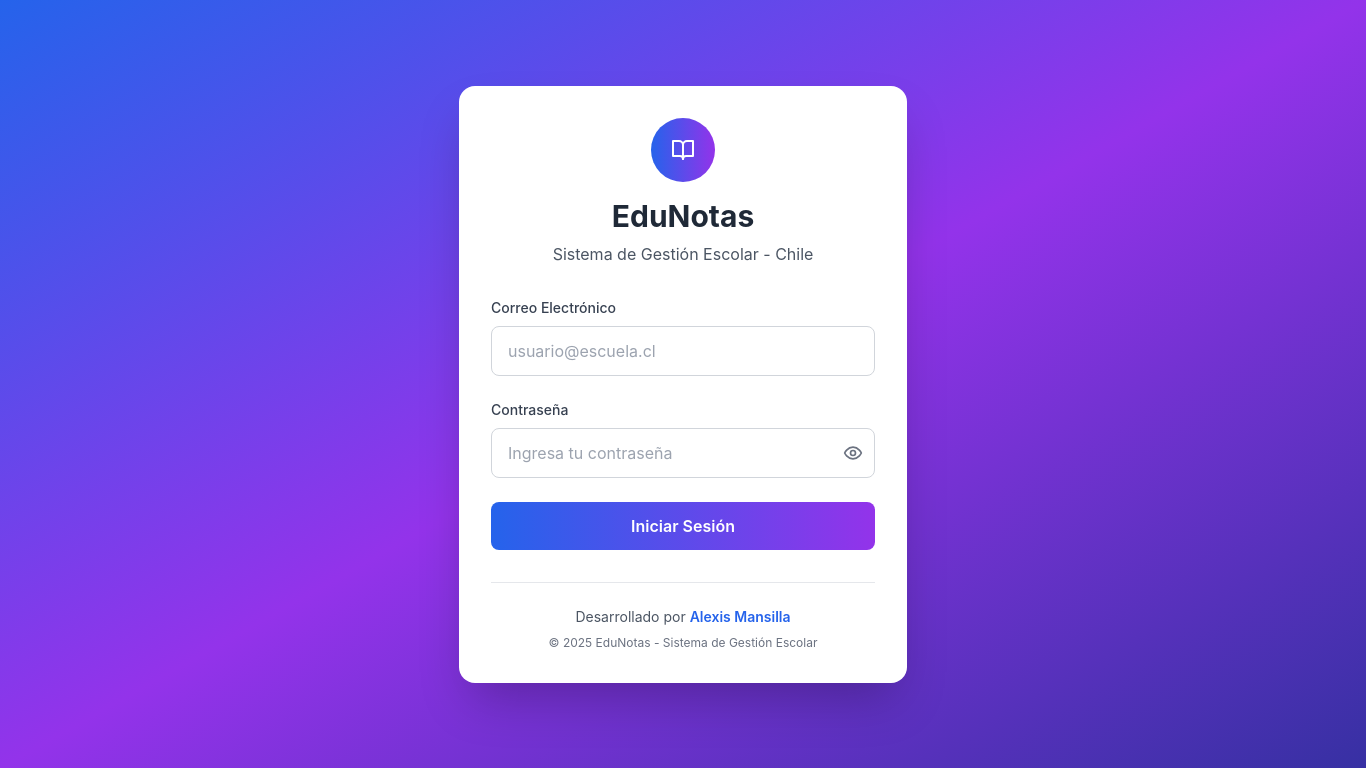
Test case: SistemaNotasEscolar › when logged in as a professor › should allow the professor to log out
In the field with placeholder "usuario@escuela.cl": x=683, y=350 [491,326,875,376], type "profesor1@escuela.cl"
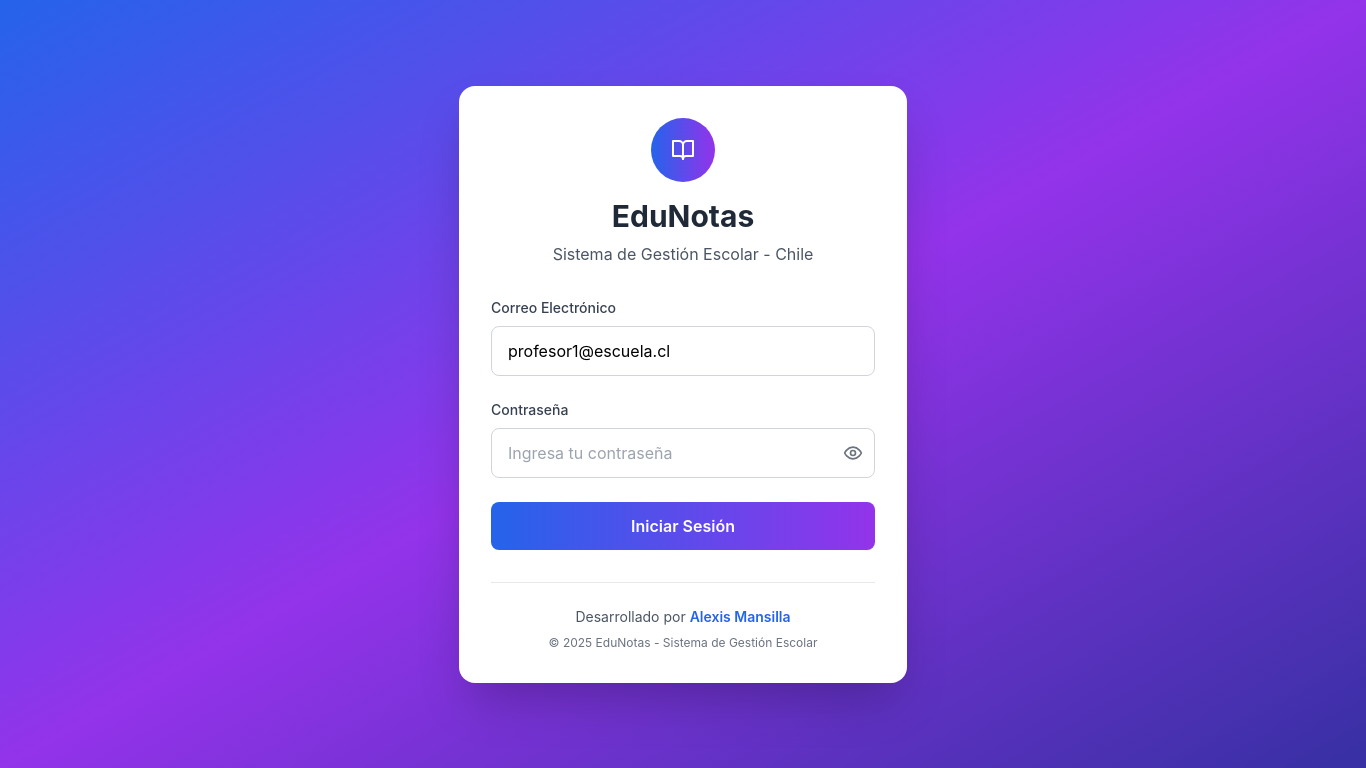
In the password field with placeholder "Ingresa tu contraseña": x=683, y=452 [491,428,875,478], type "clave123"
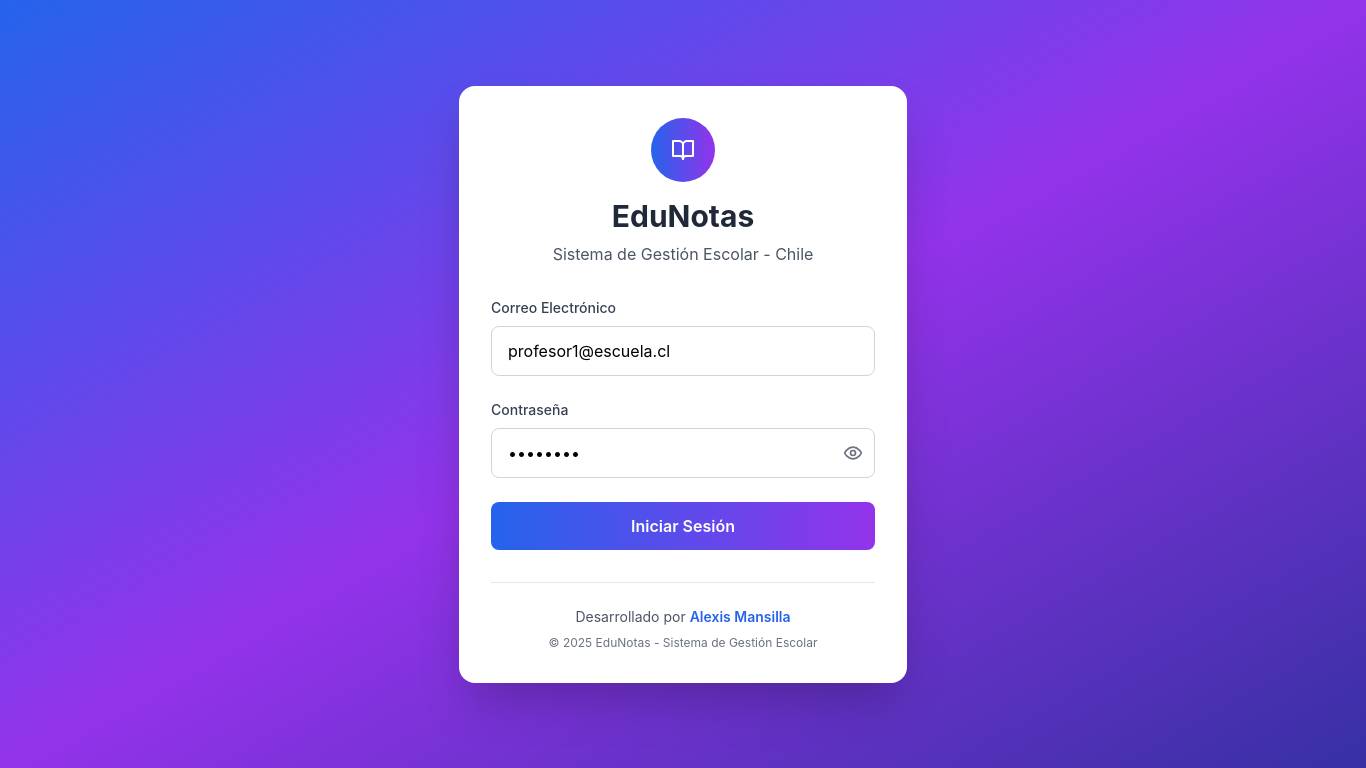
Click the button "Iniciar Sesión": x=683, y=526 [491,502,875,550]
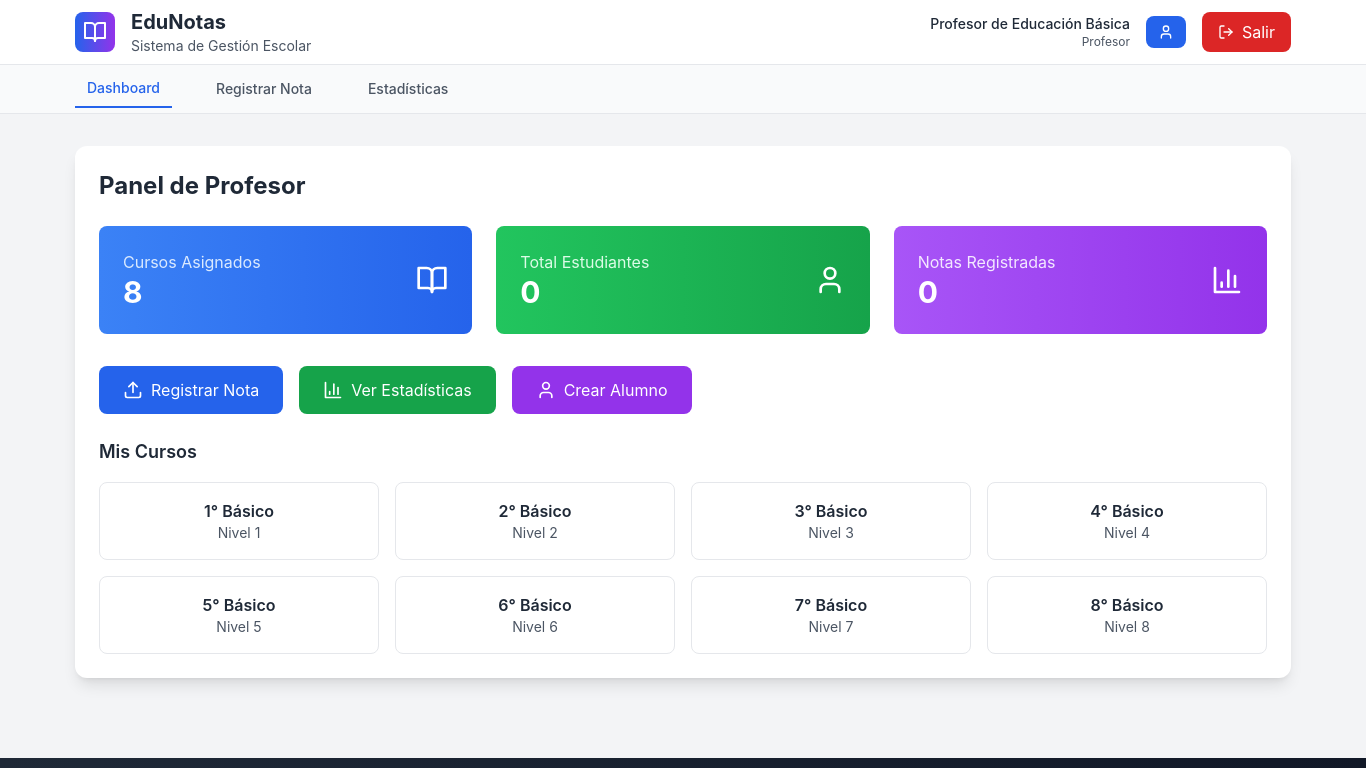
Click the button "Salir": x=1246, y=32 [1202,12,1291,52]
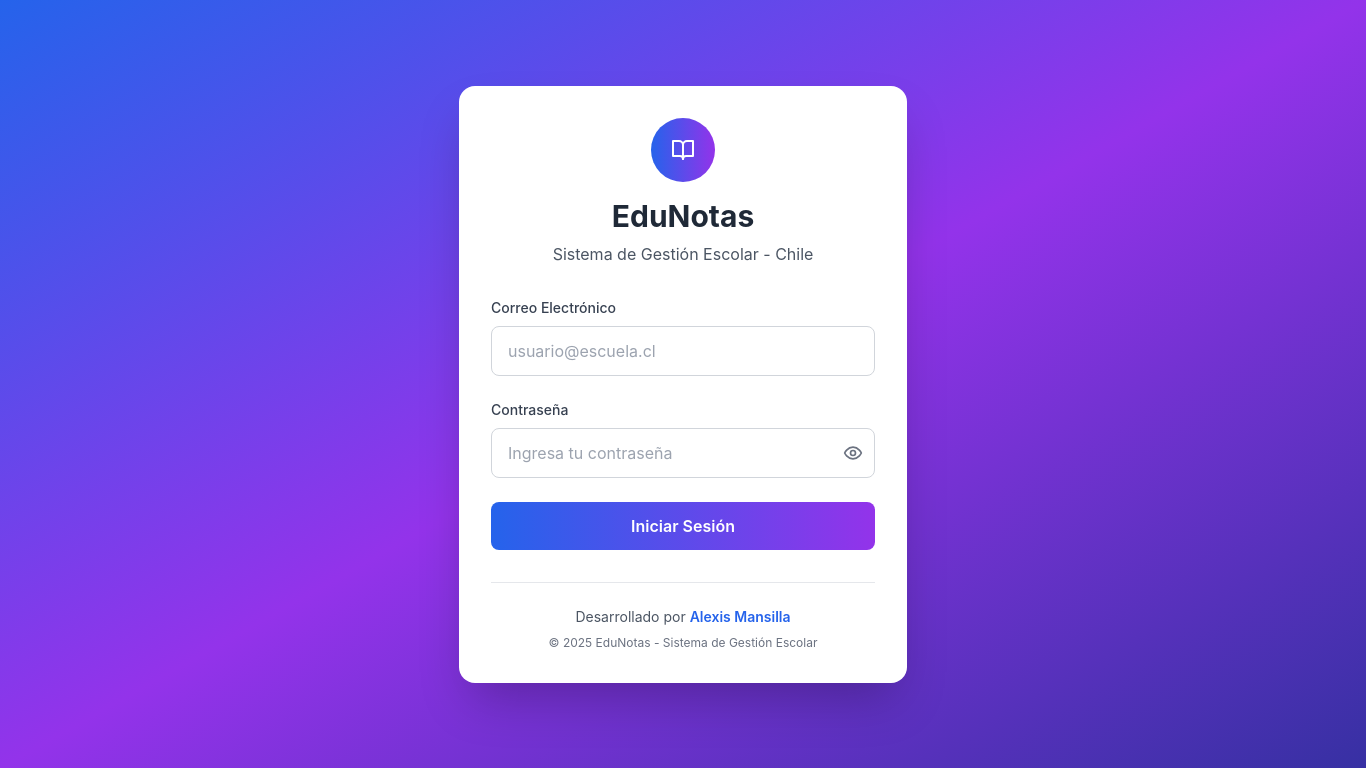
Expected: the heading "EduNotas" is shown, [612,198,754,234]
Now the field with placeholder "usuario@escuela.cl" is shown, box [491,326,875,376]
